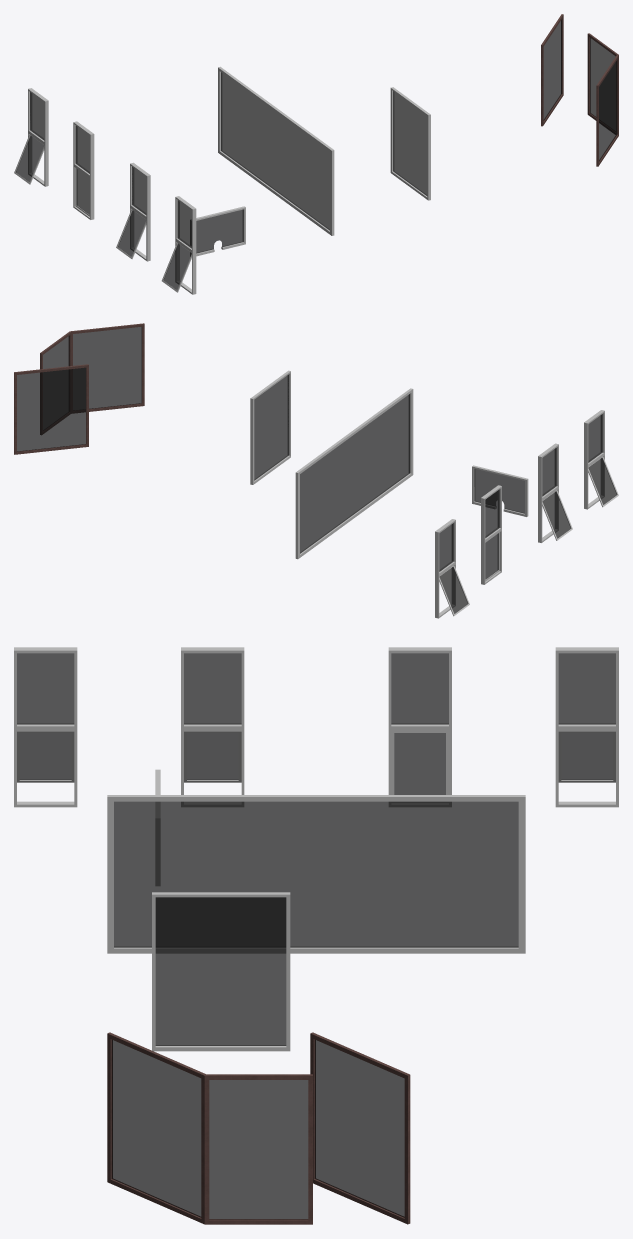
File: ECP_Windows.FBX
3 views of the same model, one above another, from view 1: azimuth 30°, elevation 25°; view 2: azimuth 150°, elevation 25°; view 3: azimuth 270°, elevation 25° (orthographic). The views are drawn at different scales.
Parts seen in each view (by area): view 1: C1_ECP_OBJ40, C1_ECP_OBJ39, C1_ECP_OBJ33, C1_ECP_OBJ35, C1_ECP_OBJ34, C1_ECP_OBJ38, C1_ECP_OBJ48, C1_ECP_OBJ46, C1_ECP_OBJ42, C1_ECP_OBJ44, C1_ECP_OBJ43, C1_ECP_OBJ47 (+2 smaller); view 2: C1_ECP_OBJ40, C1_ECP_OBJ35, C1_ECP_OBJ34, C1_ECP_OBJ39, C1_ECP_OBJ33, C1_ECP_OBJ38, C1_ECP_OBJ46, C1_ECP_OBJ48, C1_ECP_OBJ42, C1_ECP_OBJ44, C1_ECP_OBJ47, C1_ECP_OBJ49 (+2 smaller); view 3: C1_ECP_OBJ40, C1_ECP_OBJ39, C1_ECP_OBJ33, C1_ECP_OBJ35, C1_ECP_OBJ34, C1_ECP_OBJ42, C1_ECP_OBJ48, C1_ECP_OBJ46, C1_ECP_OBJ44, C1_ECP_OBJ45, C1_ECP_OBJ47, C1_ECP_OBJ43 (+1 smaller).
Part boxes in pixels (bbox=[...]): C1_ECP_OBJ40: bbox=[218, 66, 334, 235]; C1_ECP_OBJ39: bbox=[390, 87, 430, 200]; C1_ECP_OBJ33: bbox=[587, 33, 618, 134]; C1_ECP_OBJ35: bbox=[541, 14, 563, 126]; C1_ECP_OBJ34: bbox=[596, 55, 618, 166]; C1_ECP_OBJ38: bbox=[190, 206, 245, 256]; C1_ECP_OBJ48: bbox=[175, 196, 196, 294]; C1_ECP_OBJ46: bbox=[130, 162, 150, 261]; C1_ECP_OBJ42: bbox=[28, 88, 48, 186]; C1_ECP_OBJ44: bbox=[73, 121, 94, 219]; C1_ECP_OBJ43: bbox=[14, 134, 44, 184]; C1_ECP_OBJ47: bbox=[116, 209, 146, 259]; C1_ECP_OBJ40: bbox=[295, 388, 413, 559]; C1_ECP_OBJ35: bbox=[14, 364, 88, 454]; C1_ECP_OBJ34: bbox=[70, 323, 144, 413]; C1_ECP_OBJ39: bbox=[250, 370, 290, 484]; C1_ECP_OBJ33: bbox=[40, 331, 71, 434]; C1_ECP_OBJ38: bbox=[472, 465, 528, 516]; C1_ECP_OBJ46: bbox=[538, 443, 558, 542]; C1_ECP_OBJ48: bbox=[584, 410, 604, 509]; C1_ECP_OBJ42: bbox=[435, 519, 455, 618]; C1_ECP_OBJ44: bbox=[481, 485, 501, 584]; C1_ECP_OBJ47: bbox=[542, 490, 572, 540]; C1_ECP_OBJ49: bbox=[588, 457, 618, 507]; C1_ECP_OBJ40: bbox=[107, 795, 525, 953]; C1_ECP_OBJ39: bbox=[152, 892, 290, 1051]; C1_ECP_OBJ33: bbox=[204, 1074, 312, 1224]; C1_ECP_OBJ35: bbox=[310, 1032, 410, 1224]; C1_ECP_OBJ34: bbox=[107, 1032, 206, 1224]; C1_ECP_OBJ42: bbox=[555, 647, 618, 807]; C1_ECP_OBJ48: bbox=[14, 647, 77, 807]; C1_ECP_OBJ46: bbox=[181, 647, 244, 806]; C1_ECP_OBJ44: bbox=[388, 647, 451, 806]; C1_ECP_OBJ45: bbox=[391, 731, 448, 802]; C1_ECP_OBJ47: bbox=[184, 731, 241, 782]; C1_ECP_OBJ43: bbox=[558, 731, 615, 782].
Size of the model in its own units: 1813 by 300 by 1050.
